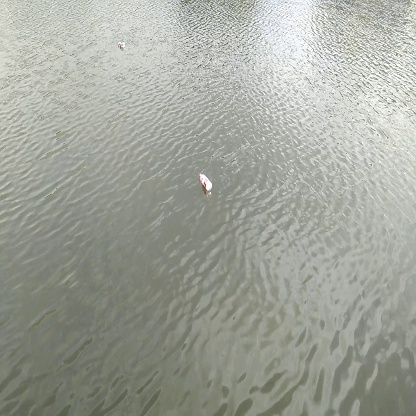bottle: (195, 170, 215, 195)
